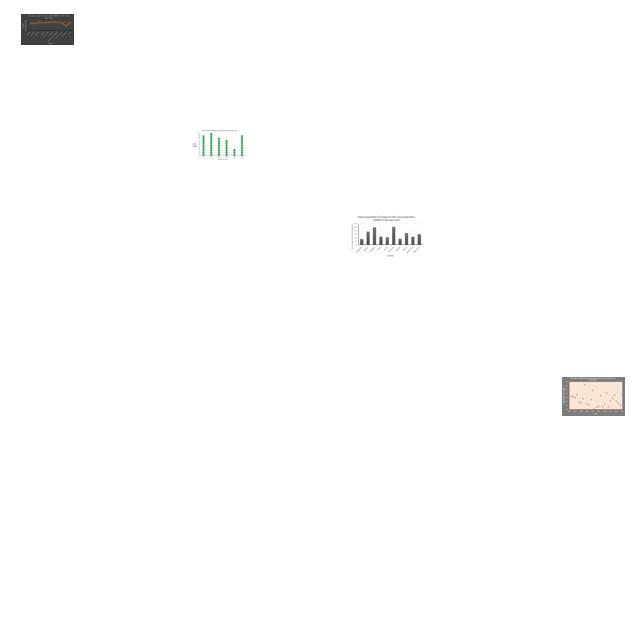Graph: (350, 215, 424, 257), (562, 377, 625, 416), (191, 129, 247, 161), (21, 14, 74, 45)
